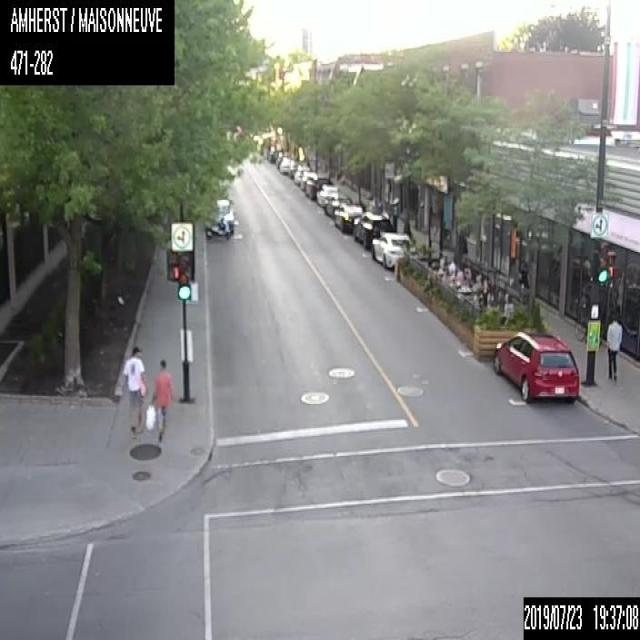pedestrian: (145, 358, 176, 452), (121, 344, 148, 439), (604, 309, 621, 380), (501, 291, 514, 320)
vehicle: (491, 328, 578, 401), (372, 231, 417, 269), (352, 211, 392, 248), (333, 202, 363, 232), (305, 172, 332, 200), (214, 198, 233, 234), (324, 194, 351, 216), (205, 215, 229, 238), (316, 183, 338, 206), (299, 170, 318, 190), (294, 164, 308, 184)
